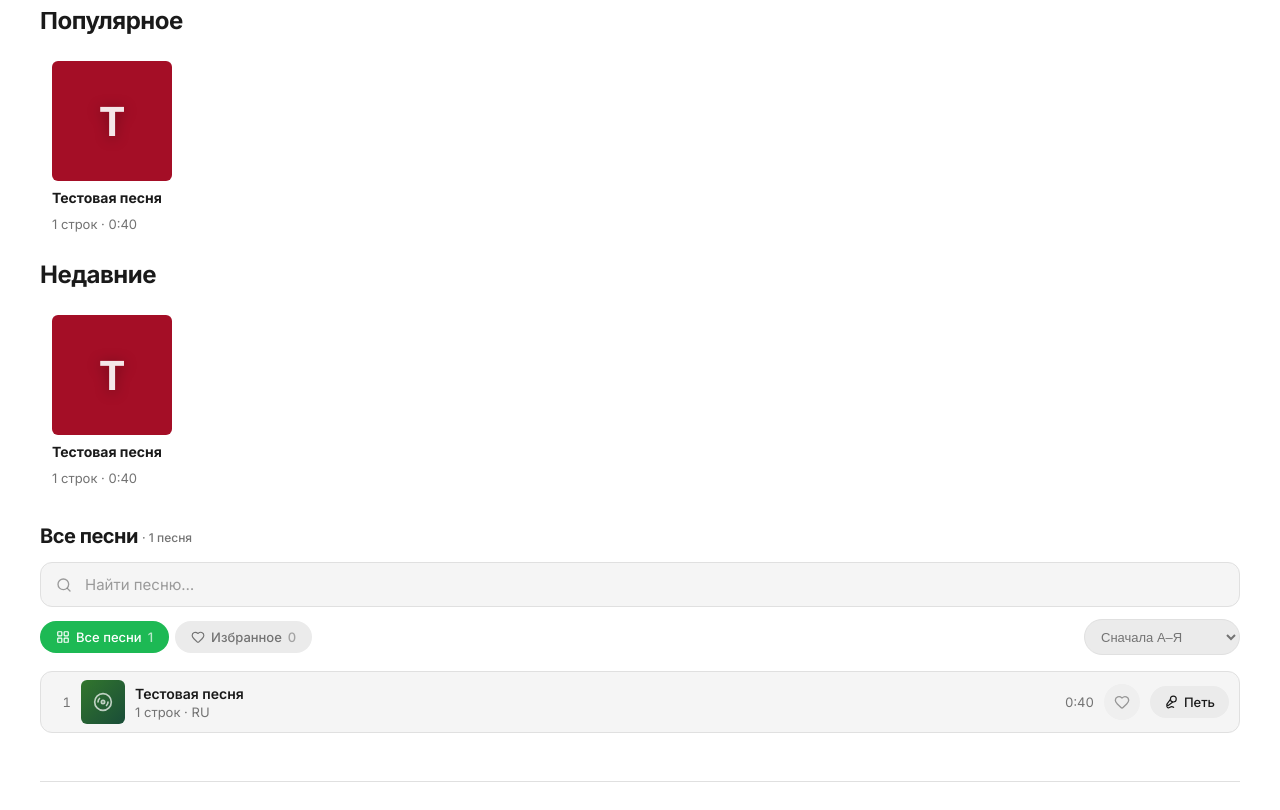
Test: Catalog: фаза 1 — полка, сортировка, язык, вид › клик по карточке полки открывает превью, а не плеер
(page scrolled)
Expected: the button "Петь" is shown, [1150, 686, 1229, 718]
Expected: the heading "Недавние" is shown, [40, 260, 156, 289]
Step 1. Click the button with aria-label "Превью: Тестовая песня" → [112, 400], box [40, 303, 184, 498]
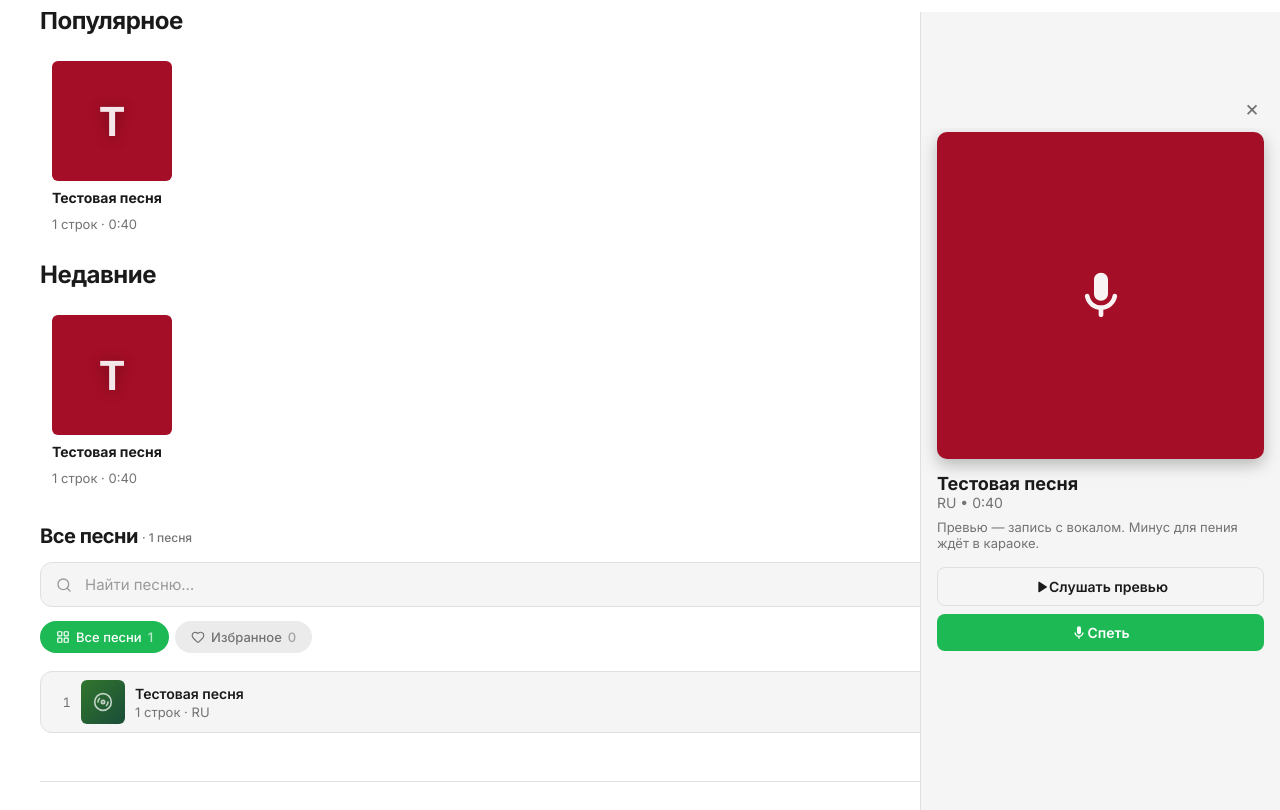
Expected: the element with test id "karaoke-preview-panel" shows "Тестовая песня", [937, 473, 1078, 494]
